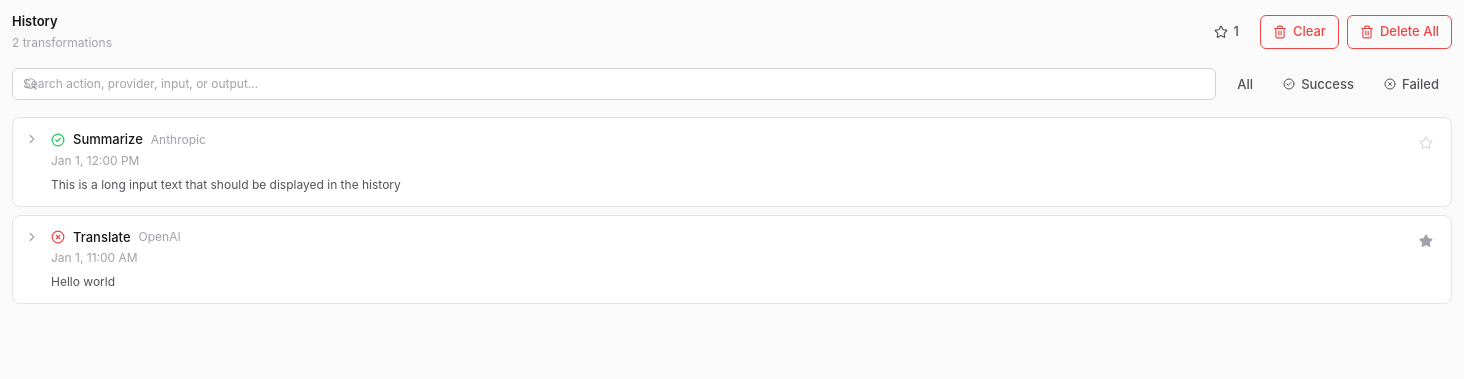
Scenario: HistoryList › shows error when clear fails
The image size is (1464, 379).
Expected: the text "Summarize" is shown, [73, 130, 143, 150]
Click the button "Clear" at [1299, 32], box [1260, 15, 1339, 48]
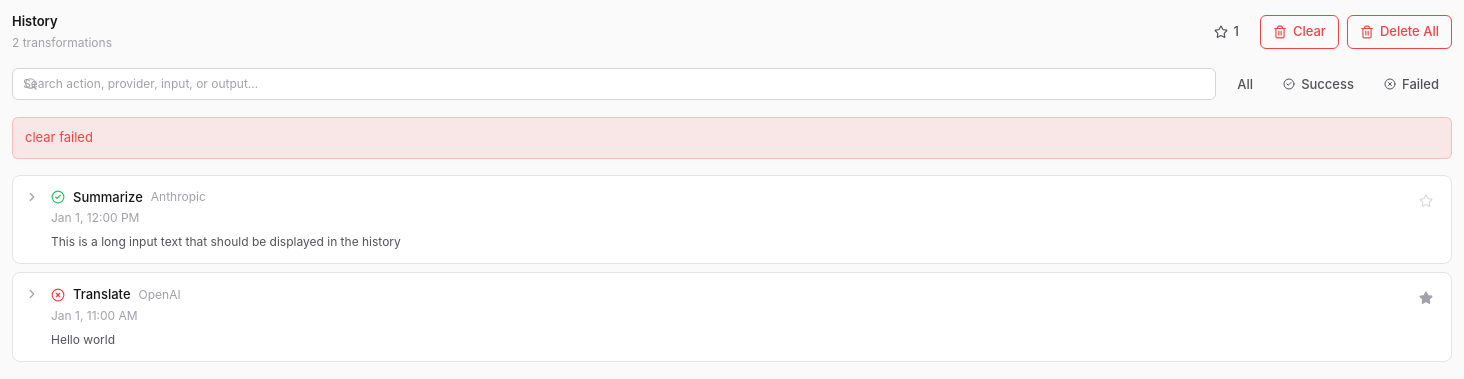
Expected: the text "clear failed" is shown, [25, 129, 93, 145]
